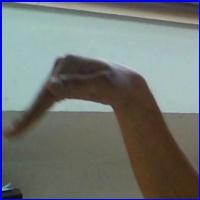A: (14, 49, 150, 154)
